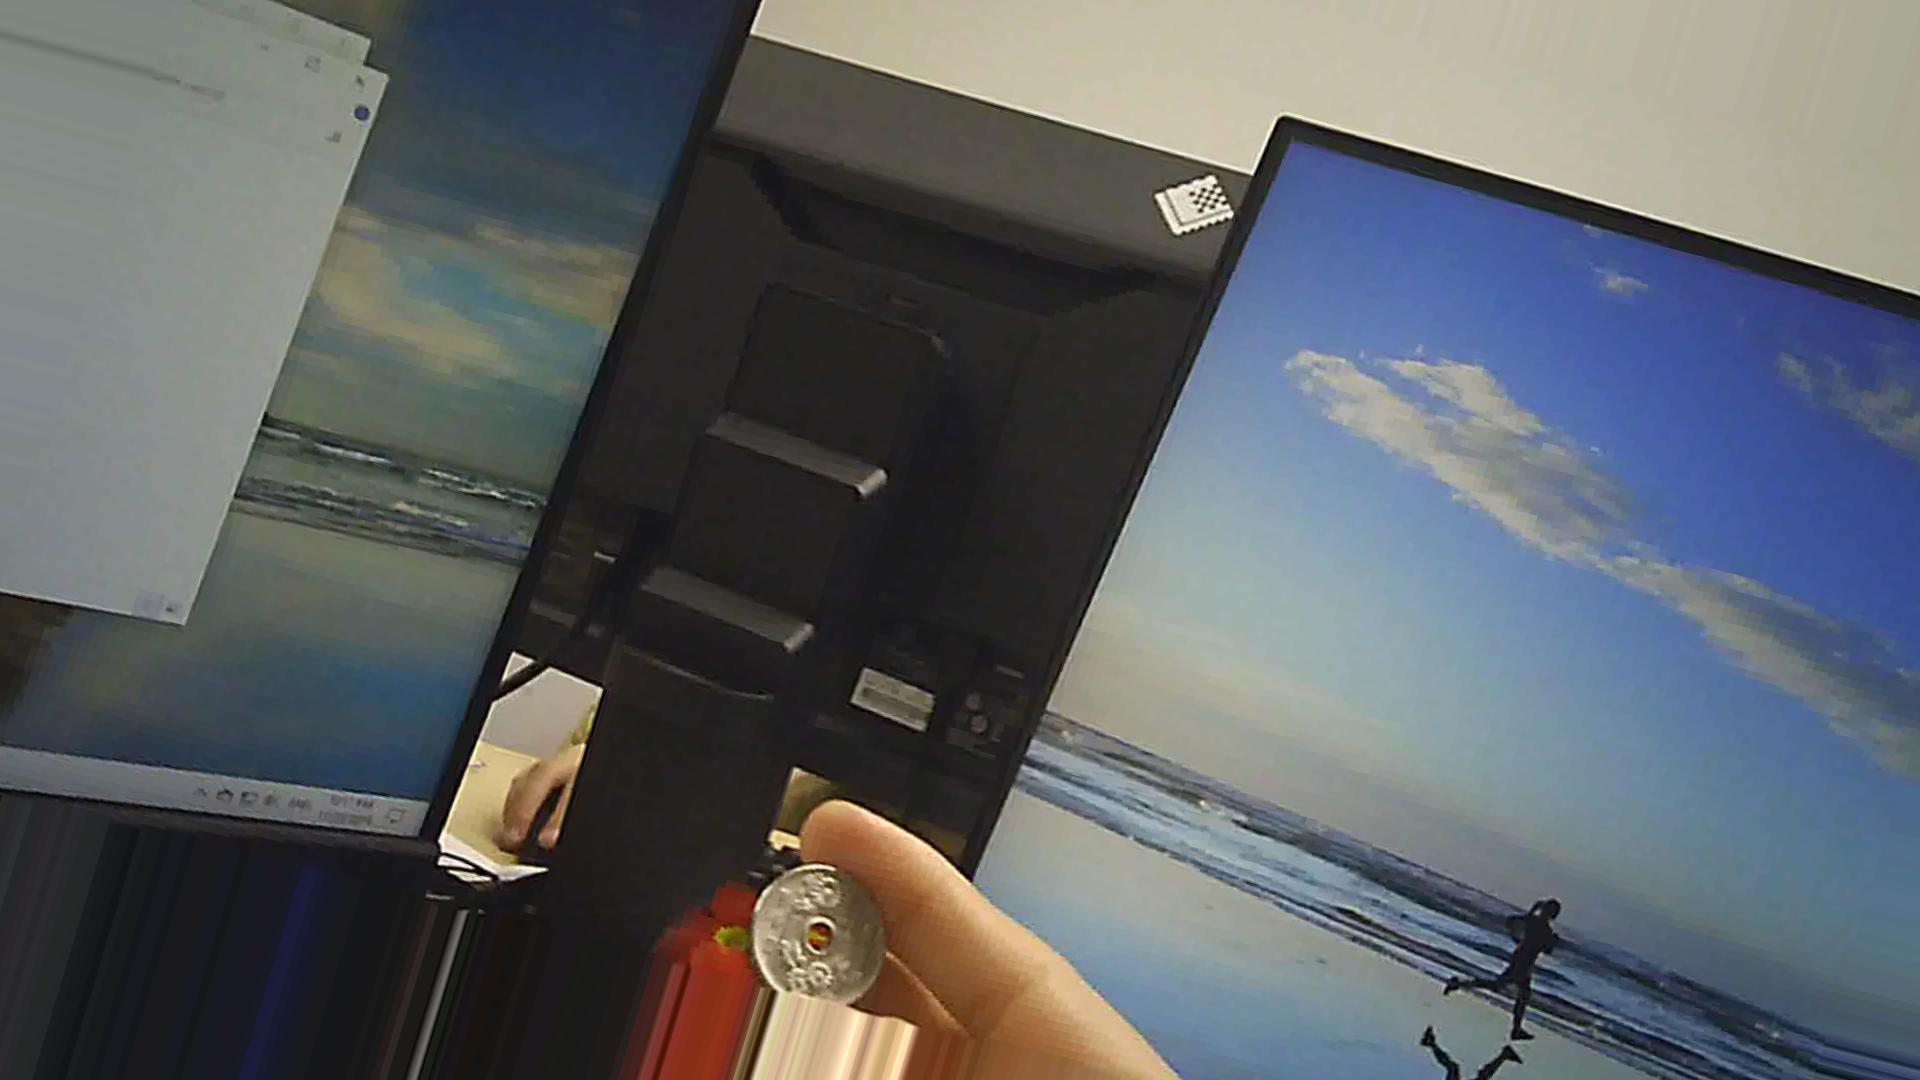50 Yen: (750, 851, 895, 1017)
